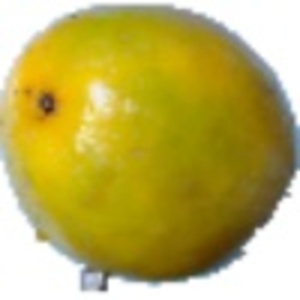maracujá: (1, 4, 300, 293)
